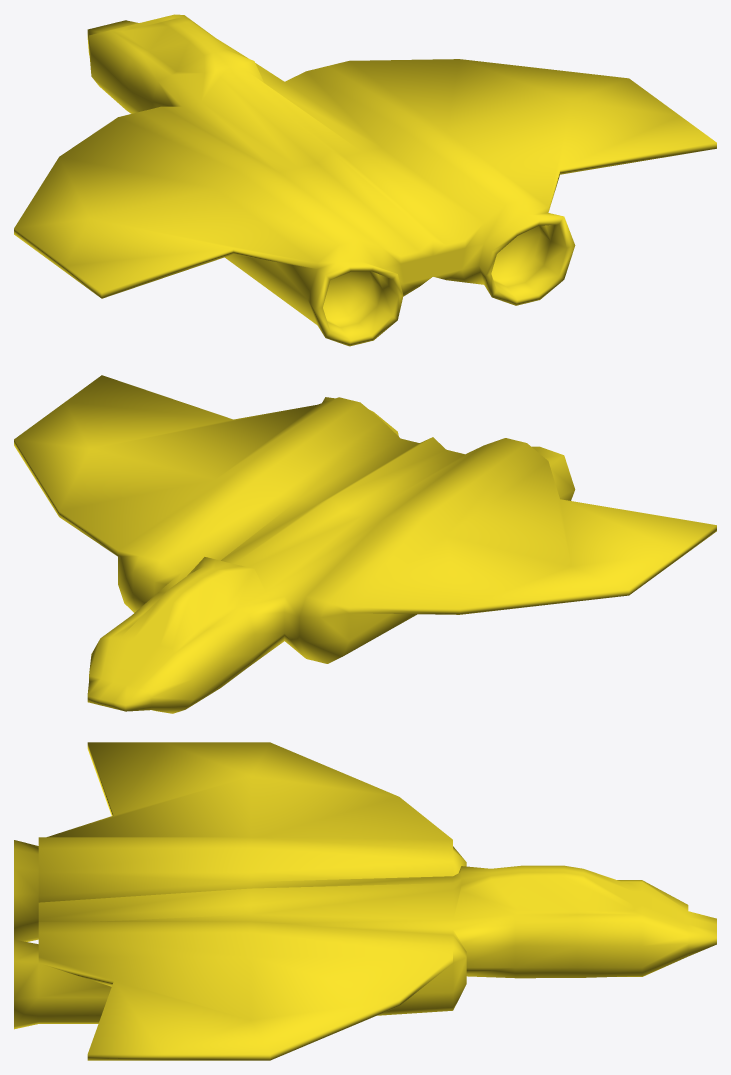
The model's file is Fighter Jet.004.glb.
3 renders of one model, top to bottom at view 1: azimuth 30°, elevation 25°; view 2: azimuth 150°, elevation 25°; view 3: azimuth 270°, elevation 25°, orthographic. The views are drawn at different scales.
Visible parts, largest first — view 1: Cube; view 2: Cube; view 3: Cube.
Part boxes in pixels (x1=…): Cube: x1=14, y1=14, x2=716, y2=346; Cube: x1=14, y1=375, x2=716, y2=713; Cube: x1=14, y1=742, x2=716, y2=1060.
Bounding box in the file's own units: 7.38 × 1.21 × 7.03.
1 material, 1 textured.
